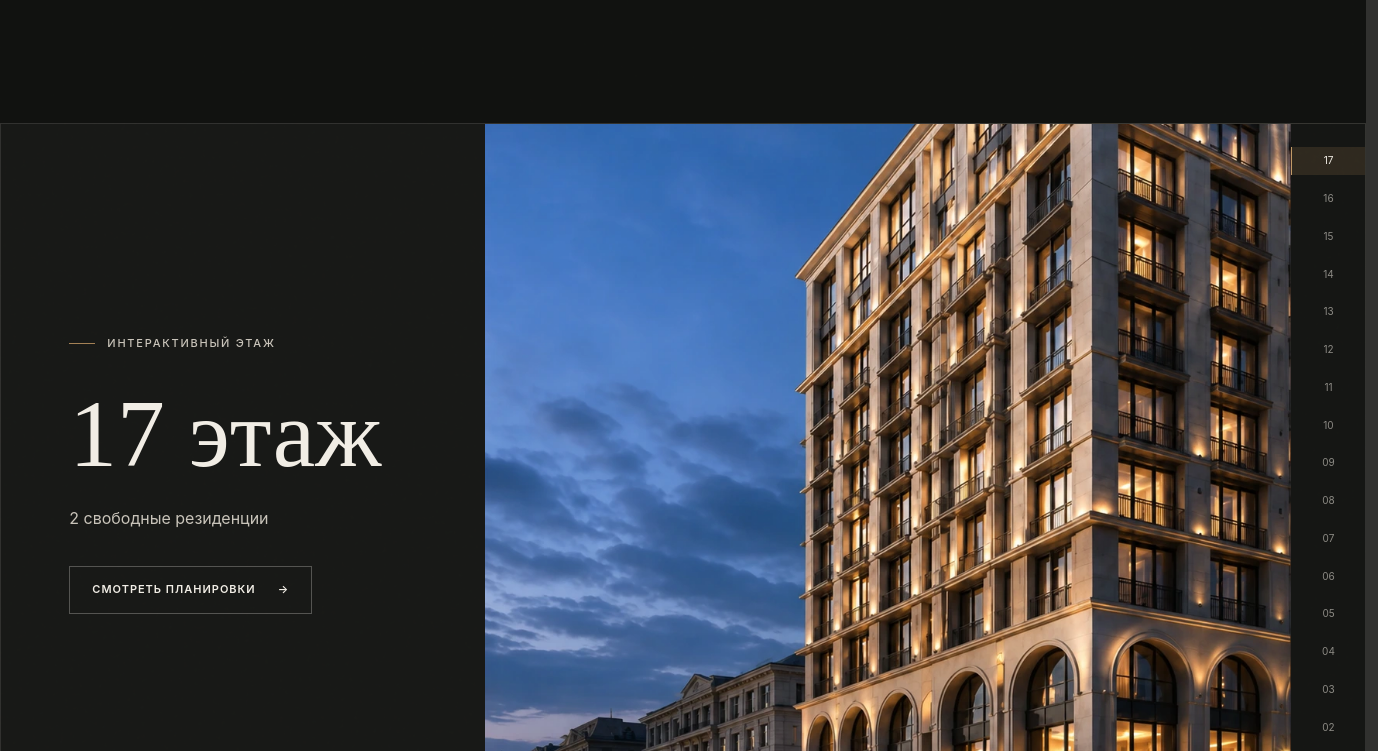
Scenario: interactive MONUMENT components › updates availability when a floor is selected
This screenshot has width=1378, height=751.
Click the tab named "12 этаж" at (1328, 350), box 1291,336 -> 1365,364
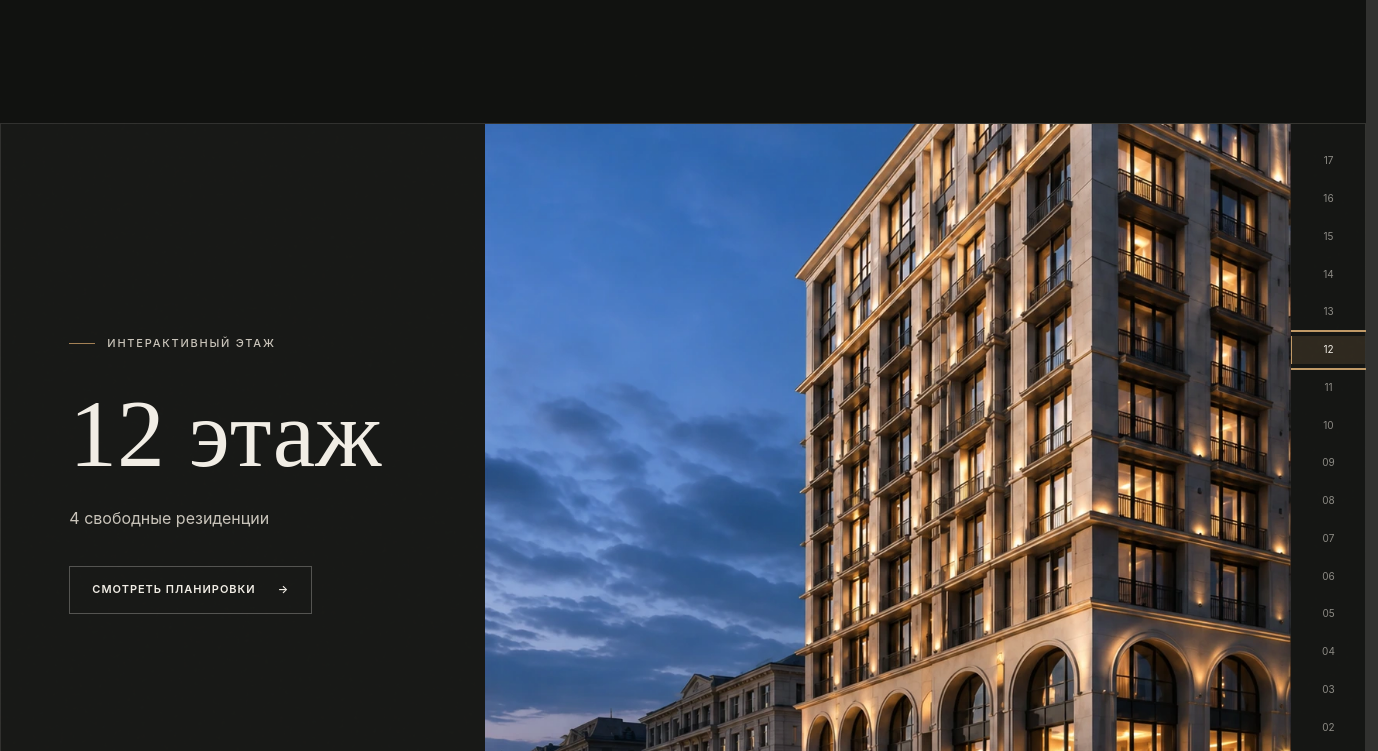
Expected: the text "4 свободные резиденции" is shown, 69,504 -> 269,532
